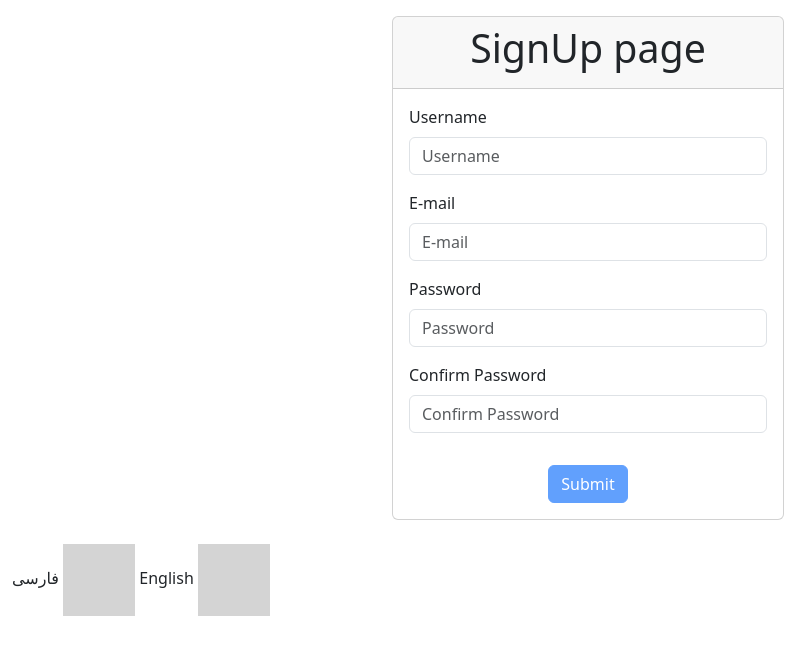
SignUp page › Interaction › submit button is enable when password and confirm password are same
Step 1. Type "123Zasdsd2@" into the password field with placeholder "Password" → (588, 328), box [409,309,767,347]
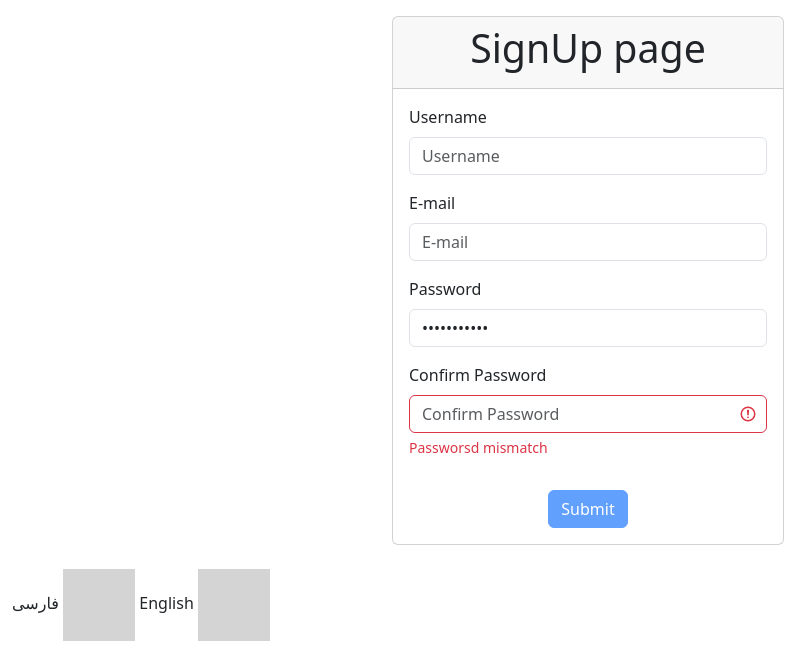
Step 2. Type "123Zasdsd2@" into the password field with placeholder "Confirm Password" → (588, 414), box [409,395,767,433]
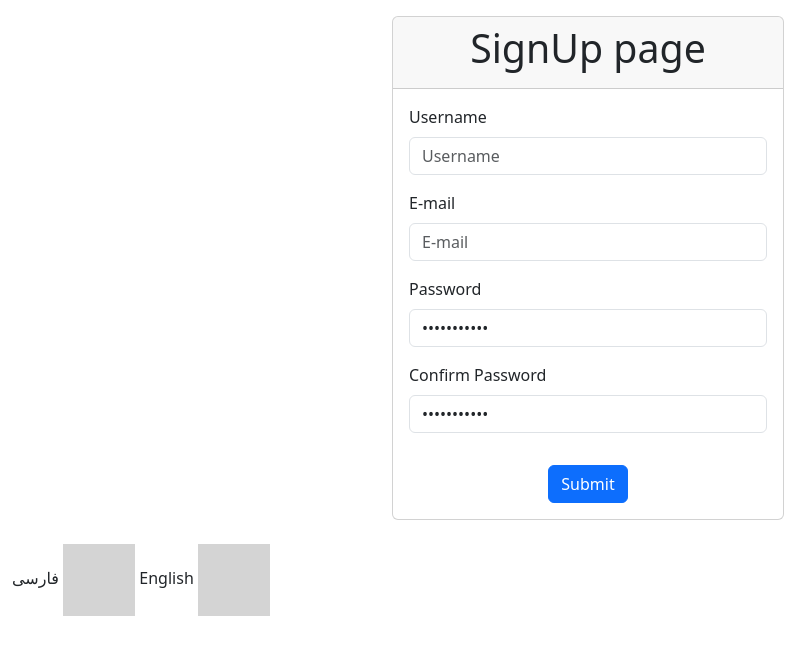
expect the button "Submit" is enabled: met, box [548,465,628,503]
